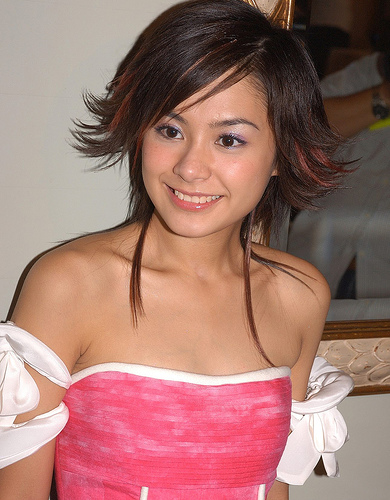without_mask: (133, 65, 278, 235)
